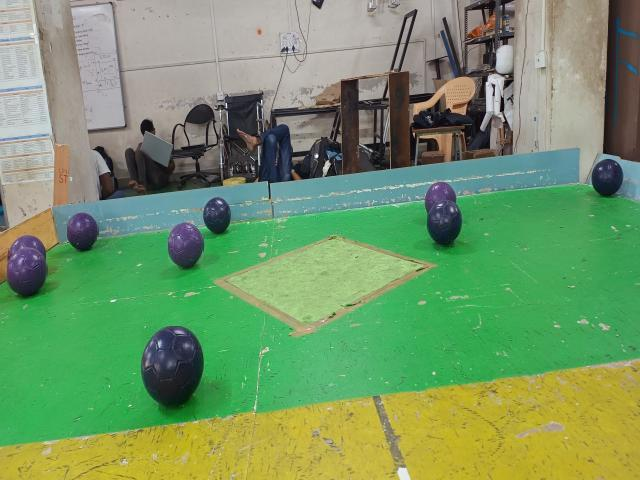jambhalya: (7, 248, 47, 297), (168, 222, 203, 268), (67, 214, 98, 250), (425, 182, 456, 213), (9, 235, 46, 260)
kaalyya: (141, 326, 204, 406), (427, 200, 463, 246), (591, 158, 624, 197), (204, 197, 231, 233)
